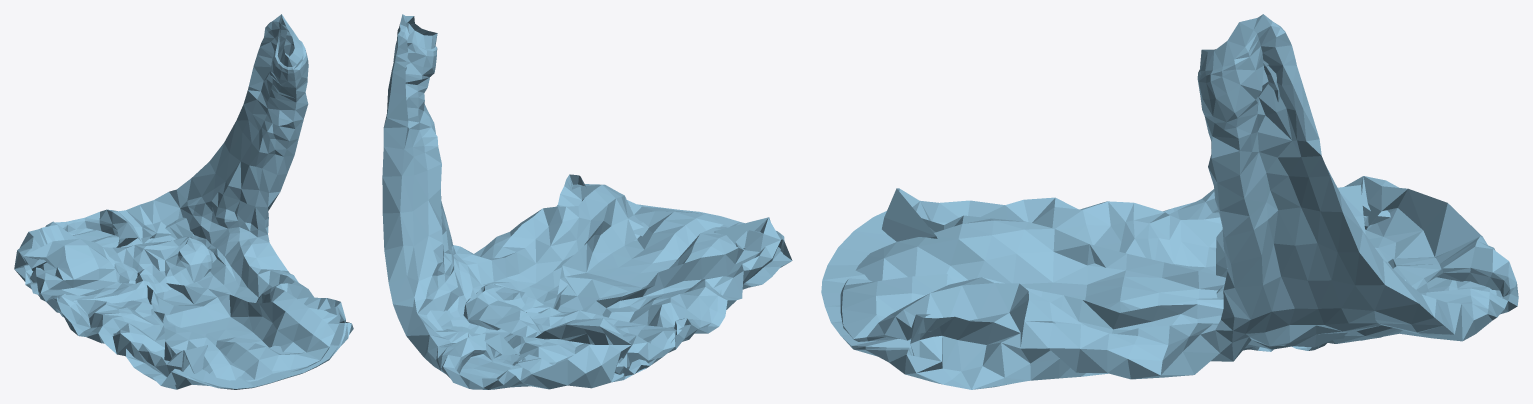
Rendered from frame_09.glb.
3 renders of one model, left to right at view 1: azimuth 30°, elevation 25°; view 2: azimuth 150°, elevation 25°; view 3: azimuth 270°, elevation 25°, orthographic. The views are drawn at different scales.
Visible parts, largest first — view 1: frame_09.obj; view 2: frame_09.obj; view 3: frame_09.obj.
Part boxes in pixels (box(x1,y1,x2,y2)): frame_09.obj: box(14, 14, 353, 389); frame_09.obj: box(382, 14, 792, 389); frame_09.obj: box(821, 14, 1518, 389).
Size of the model in its own units: 1.13 by 1.07 by 1.6.
